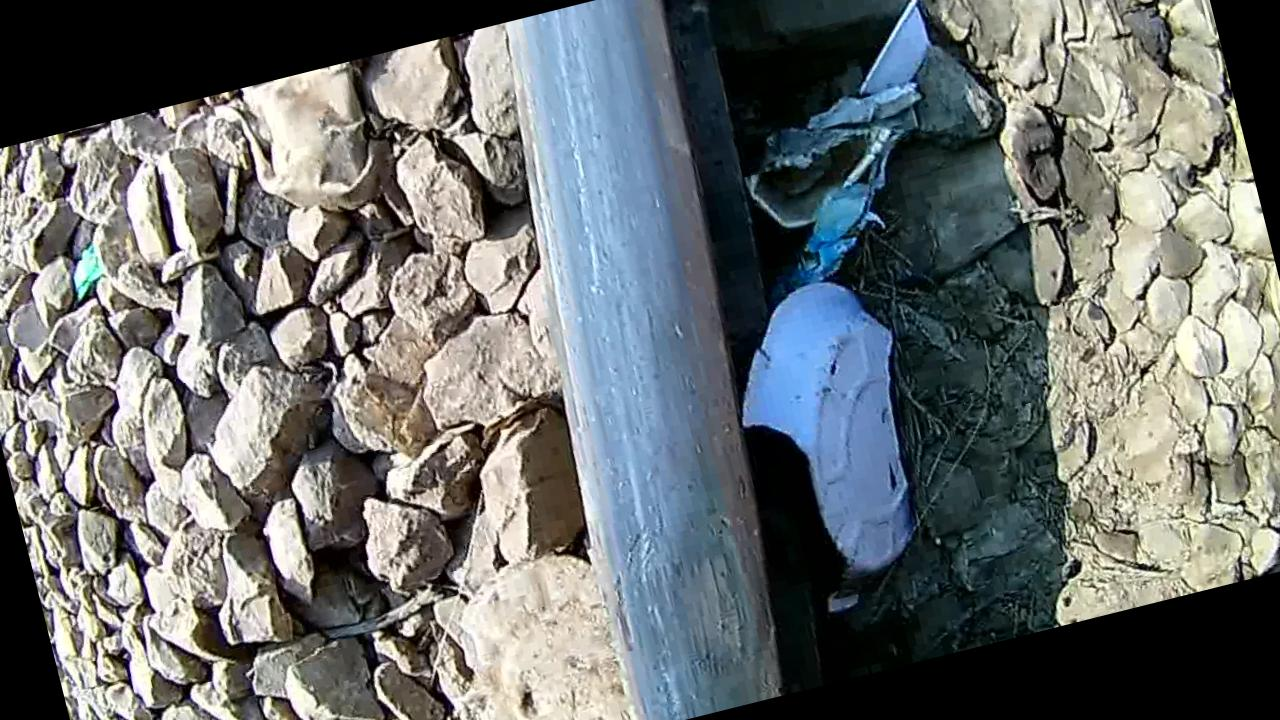bolt_missing: (543, 384, 825, 720)
